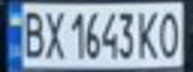1: (66, 7, 84, 60)
3: (115, 8, 139, 60)
4: (100, 7, 121, 60)
6: (84, 8, 103, 60)
B: (18, 6, 48, 60)
K: (136, 7, 163, 60)
O: (154, 7, 184, 60)
X: (42, 7, 66, 61)
